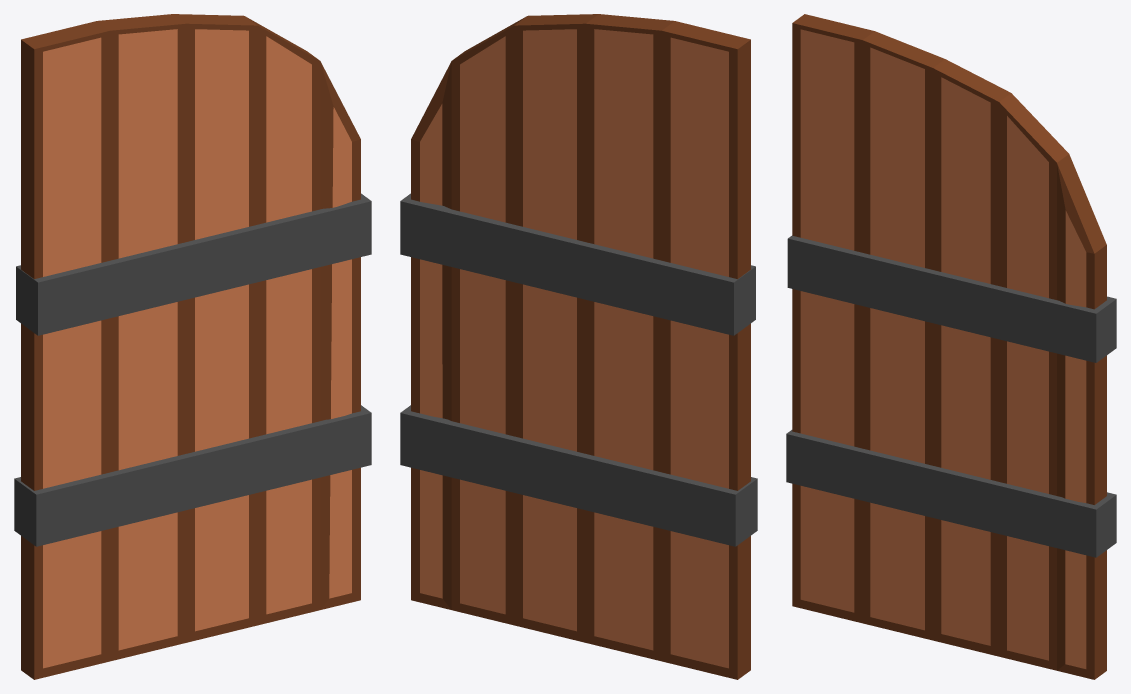
The model's file is PuertaMedia.fbx.
3 renders of one model, left to right at view 1: azimuth 30°, elevation 25°; view 2: azimuth 150°, elevation 25°; view 3: azimuth 330°, elevation 25°, orthographic. The views are drawn at different scales.
Parts seen in each view (by area): view 1: Cube; view 2: Cube; view 3: Cube.
Boxes of the visible parts, left/top/right/bottom form: Cube: left=14, top=14, right=371, bottom=679; Cube: left=400, top=14, right=757, bottom=679; Cube: left=786, top=14, right=1116, bottom=679.
Size of the model in its own units: 207 by 373 by 23.7.
